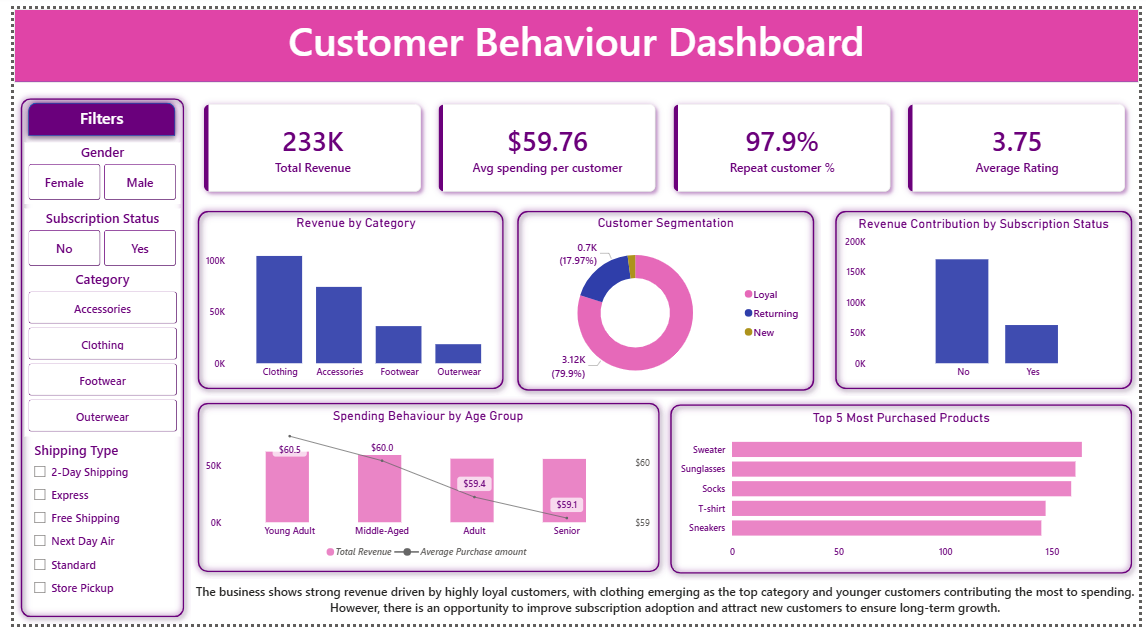

What the dashboard file says about the page in this screenshot:
{"tool":"powerbi","page":{"name":"Page 1","canvas":[1500,820],"ordinal":0},"visuals":[{"type":"shape","box":[0,0,1500,98],"z":0},{"type":"textbox","box":[164,0,1172,110],"z":1000},{"type":"cardVisual","fields":{"Data":["public customer.Total Revenue","public customer.Avg spend per customer","public customer.Repeat customer %","public customer.Average Rating"]},"box":[236,110,1264,150],"z":2000},{"type":"shape","box":[236,260,426,256],"z":3000},{"type":"shape","box":[662,260,414,258],"z":4000},{"type":"shape","box":[1086,260,414,256],"z":5000},{"type":"clusteredColumnChart","title":"Revenue by Category","fields":{"Category":["public customer.category"],"Y":["public customer.Total Revenue"]},"box":[250,274,412,228],"z":6000},{"type":"donutChart","title":"Customer Segmentation","fields":{"Category":["public customer.Customer Segment"],"Y":["CountNonNull(public customer.customer_id)"]},"box":[678,274,382,242],"z":7000},{"type":"clusteredColumnChart","title":"Revenue Contribution by Subscription Status","fields":{"Y":["public customer.Total Revenue"],"Category":["public customer.subscription_status"]},"box":[1102,276,382,226],"z":8000},{"type":"shape","box":[236,516,634,244],"z":9000},{"type":"lineStackedColumnComboChart","title":"Spending Behaviour by Age Group","fields":{"Category":["public customer.age_group"],"Y":["public customer.Total Revenue"],"Y2":["public customer.Average Purchase amount"]},"box":[250,532,604,210],"z":10000},{"type":"shape","box":[866,518,634,244],"z":11000},{"type":"barChart","title":"Top 5 Most Purchased Products","fields":{"Category":["public customer.item_purchased"],"Y":["Count(public customer.customer_id)"]},"box":[882,534,602,208],"z":12000},{"type":"shape","box":[0,110,236,710],"z":13000},{"type":"advancedSlicerVisual","fields":{"Values":["public customer.gender"]},"box":[14,178,208,82],"z":13001},{"type":"advancedSlicerVisual","fields":{"Values":["public customer.category"]},"box":[14,348,208,222],"z":13003},{"type":"slicer","fields":{"Values":["public customer.shipping_type"]},"box":[14,570,208,236],"z":13004},{"type":"textbox","box":[236,760,1264,60],"z":13005},{"type":"advancedSlicerVisual","fields":{"Values":["public customer.subscription_status"]},"box":[14,266,208,82],"z":13006},{"type":"shape","box":[10,116,214,62],"z":13007},{"type":"textbox","box":[42,124,150,48],"z":13008}]}

Visuals, with their boxes in screenshot pixels (x1, y1, x2, y2), scaled from the page's 1500x820 canvas onto the 1146x631 screenshot:
shape: crop(0, 0, 1145, 75)
textbox: crop(125, 0, 1021, 85)
cardVisual - public customer.Total Revenue x public customer.Avg spend per customer: crop(180, 85, 1145, 200)
shape: crop(180, 200, 506, 397)
shape: crop(506, 200, 822, 399)
shape: crop(830, 200, 1145, 397)
"Revenue by Category" clusteredColumnChart: crop(191, 211, 506, 386)
"Customer Segmentation" donutChart: crop(518, 211, 810, 397)
"Revenue Contribution by Subscription Status" clusteredColumnChart: crop(842, 212, 1134, 386)
shape: crop(180, 397, 665, 585)
"Spending Behaviour by Age Group" lineStackedColumnComboChart: crop(191, 409, 652, 571)
shape: crop(662, 399, 1145, 586)
"Top 5 Most Purchased Products" barChart: crop(674, 411, 1134, 571)
shape: crop(0, 85, 180, 630)
advancedSlicerVisual - public customer.gender: crop(11, 137, 170, 200)
advancedSlicerVisual - public customer.category: crop(11, 268, 170, 439)
slicer - public customer.shipping_type: crop(11, 439, 170, 620)
textbox: crop(180, 585, 1145, 630)
advancedSlicerVisual - public customer.subscription_status: crop(11, 205, 170, 268)
shape: crop(8, 89, 171, 137)
textbox: crop(32, 95, 147, 132)
